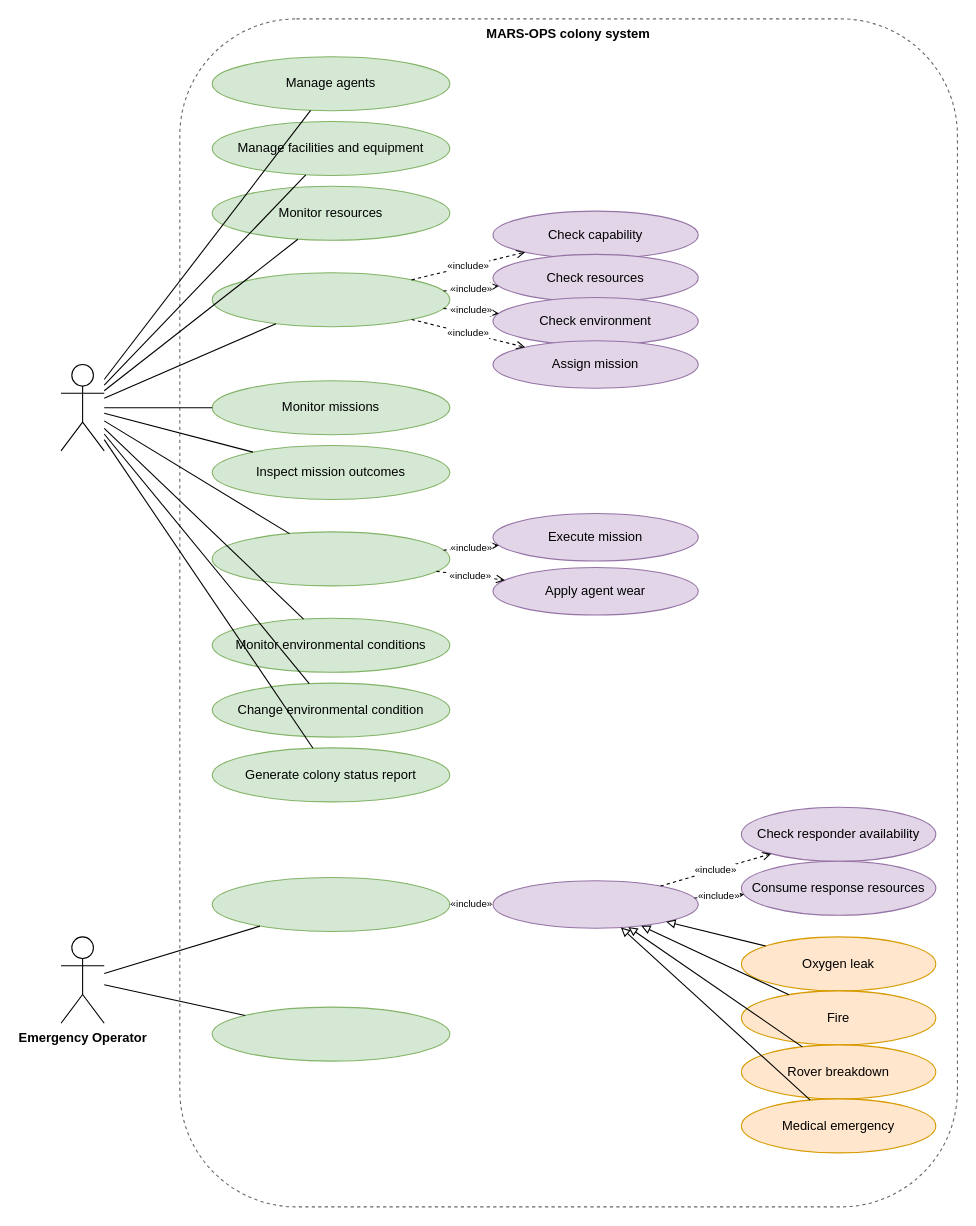
This 976x1226 diagram has some shape labels left out. Each missing label, with the centre of its shape:
"Advance simulation time" goes at (x=330, y=558).
"Colony Operator" goes at (x=82, y=407).
"Handle emergency" goes at (x=595, y=904).
"Inspect emergency outcomes" goes at (x=330, y=1033).
"Submit mission" goes at (x=330, y=299).
"Trigger emergency" goes at (x=330, y=904).
